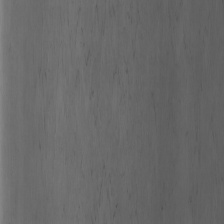silk_spot: (63, 9, 176, 219)
